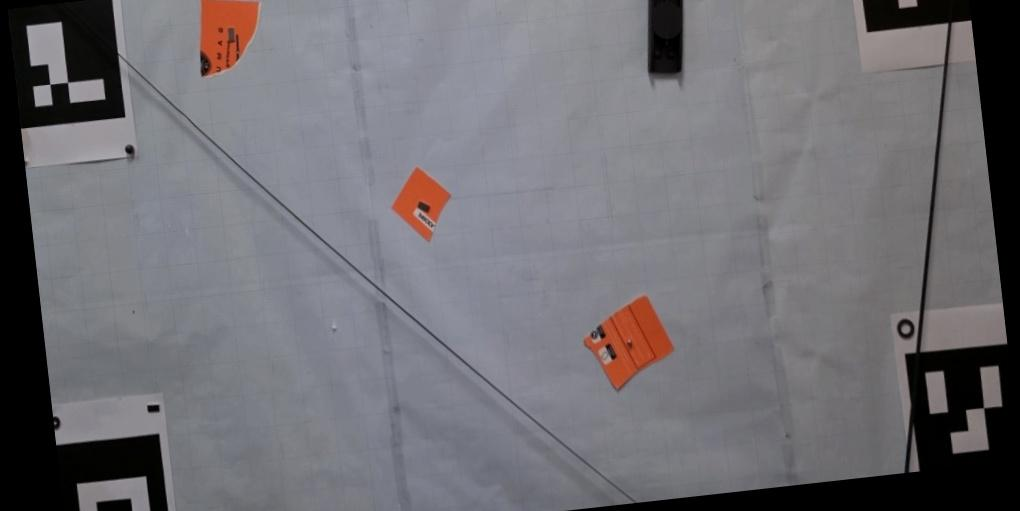obstacle: (581, 294, 674, 393), (390, 165, 454, 243), (198, 0, 262, 78), (647, 0, 683, 76)
